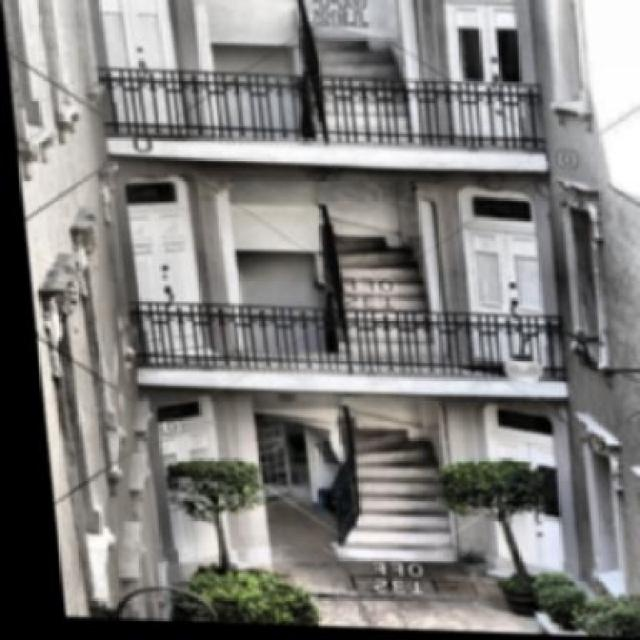stair: (311, 211, 438, 366), (315, 440, 472, 562), (298, 28, 412, 143)
